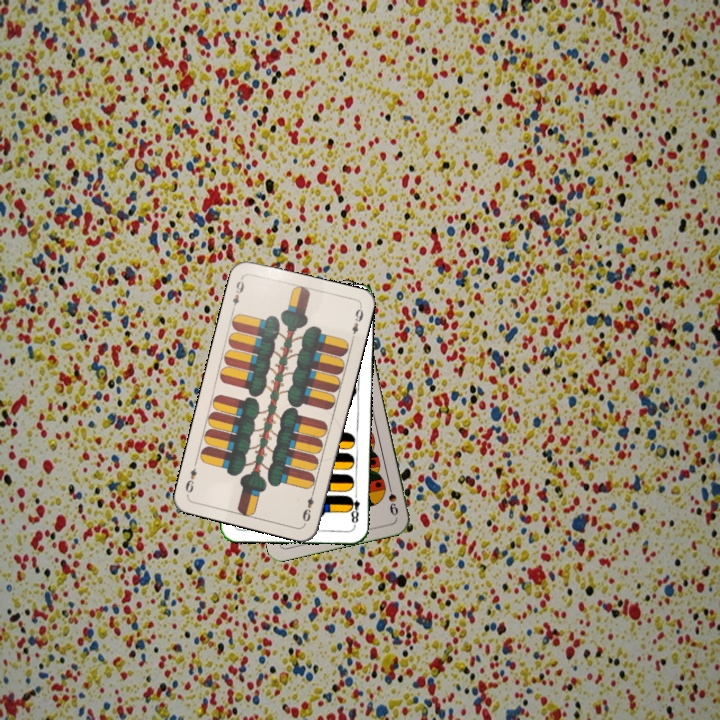E8: (345, 488, 362, 528)
E9: (228, 274, 247, 313), (298, 486, 317, 524)
S9: (384, 479, 401, 518)
